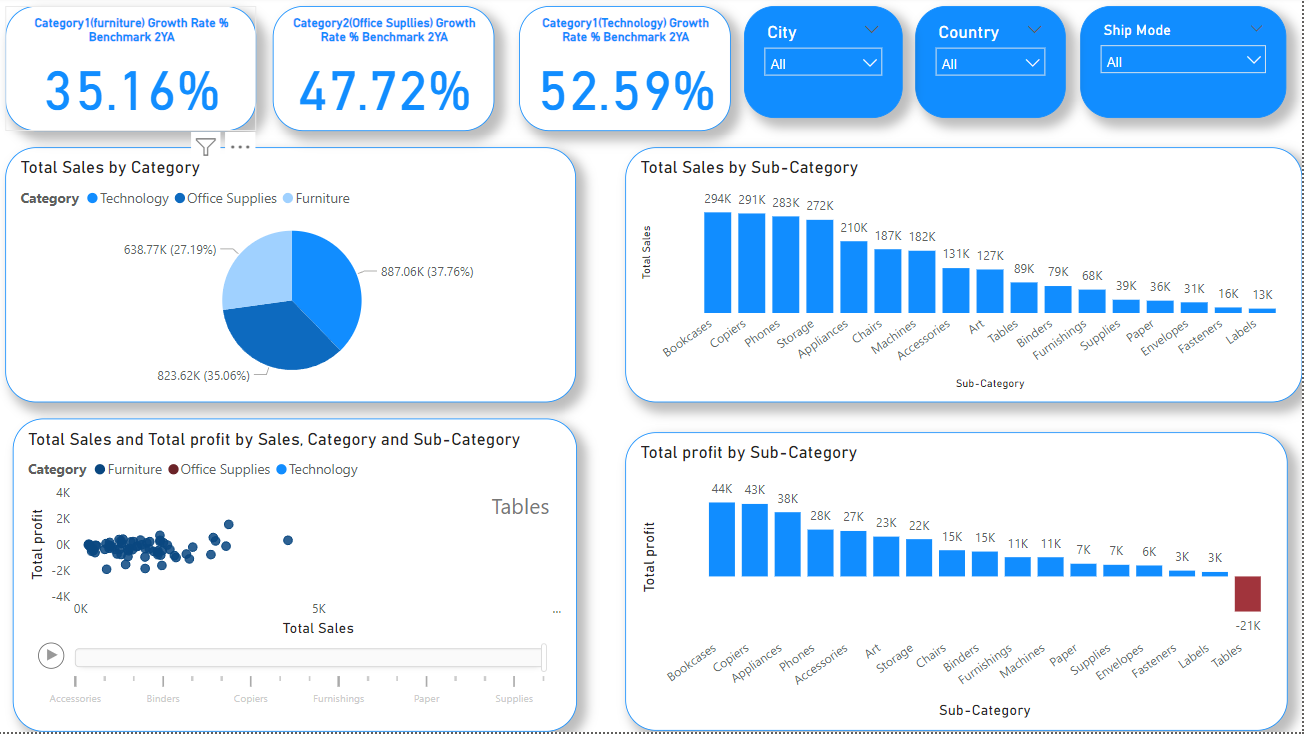

Layout of this report page (visuals, bound fields, positions):
{"tool":"powerbi","page":{"name":"Category/Sub-Category Analysis","canvas":[1280,720],"ordinal":3},"visuals":[{"type":"pieChart","fields":{"Category":["Dim - Category.Category"],"Y":["__Measures.Total Sales"]},"box":[11,148.2,558.5,249.7],"z":0},{"type":"clusteredColumnChart","fields":{"Category":["Dim - Sub-Category.Sub-Category"],"Y":["__Measures.Total Sales"]},"box":[617.5,148.2,662.8,249.7],"z":1000},{"type":"columnChart","fields":{"Category":["Dim - Sub-Category.Sub-Category"],"Y":["__Measures.Total profit"]},"box":[617.5,426.8,647.7,292.3],"z":2000},{"type":"card","title":"Category1(furniture) Growth Rate % Benchmark 2YA","fields":{"Values":["_Measures.Category_1(Furniture)_Growth Rate % BenchMark - 1 YA"]},"box":[11,9.6,245.6,122.1],"z":3000},{"type":"card","title":"Category2(Office Supllies) Growth Rate % Benchmark 2YA","fields":{"Values":["_Measures.Category_2(Office Supplies)_Growth Rate % BenchMark - 2 YA"]},"box":[273.1,9.6,216.8,122.1],"z":4000},{"type":"card","title":"Category1(Technology) Growth Rate % Benchmark 2YA","fields":{"Values":["_Measures.Category_3(Technology)_Growth Rate % BenchMark - 2 YA"]},"box":[513.2,9.6,207.2,122.1],"z":5000},{"type":"slicer","fields":{"Values":["Dim - Ship Mode.Ship Mode"]},"box":[1062.1,9.6,201.7,109.8],"z":6000},{"type":"slicer","fields":{"Values":["Dim - Country.Country"]},"box":[901.5,9.6,146.8,109.8],"z":7000},{"type":"slicer","fields":{"Values":["Dim - City.City"]},"box":[734.1,9.6,155.1,109.8],"z":8000},{"type":"scatterChart","fields":{"Category":["Fact - Sales.Sales"],"X":["__Measures.Total Sales"],"Y":["__Measures.Total profit"],"Series":["Dim - Category.Category"],"Play":["Dim - Sub-Category.Sub-Category"]},"box":[17.8,413,551.6,306],"z":9000}]}

Visuals, with their boxes in screenshot pixels (x1, y1, x2, y2), scaled from the page's 1280x720 canvas onto the 1309x735 screenshot:
pieChart - Dim - Category.Category x __Measures.Total Sales: 11, 151, 582, 406
clusteredColumnChart - Dim - Sub-Category.Sub-Category x __Measures.Total Sales: 631, 151, 1308, 406
columnChart - Dim - Sub-Category.Sub-Category x __Measures.Total profit: 631, 436, 1294, 734
"Category1(furniture) Growth Rate % Benchmark 2YA" card: 11, 10, 262, 134
"Category2(Office Supllies) Growth Rate % Benchmark 2YA" card: 279, 10, 501, 134
"Category1(Technology) Growth Rate % Benchmark 2YA" card: 525, 10, 737, 134
slicer - Dim - Ship Mode.Ship Mode: 1086, 10, 1292, 122
slicer - Dim - Country.Country: 922, 10, 1072, 122
slicer - Dim - City.City: 751, 10, 909, 122
scatterChart - Fact - Sales.Sales x __Measures.Total Sales: 18, 422, 582, 734
